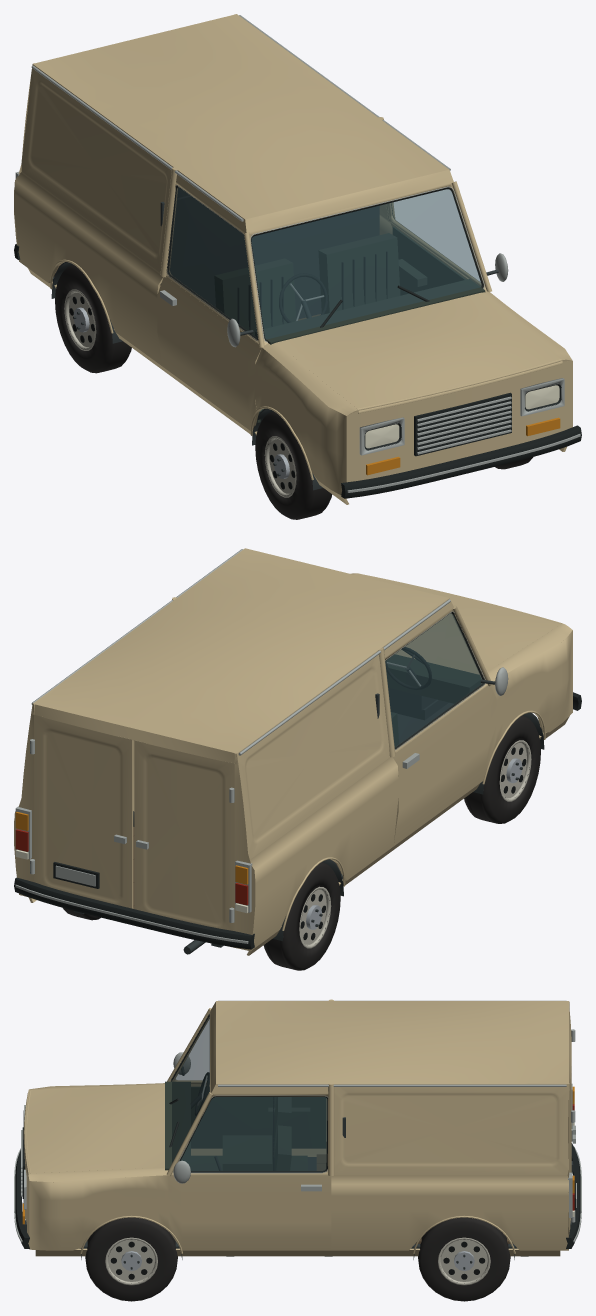
File: van-candidate.glb
The picture shows the model from 3 angles, top to bottom: view 1: azimuth 30°, elevation 25°; view 2: azimuth 150°, elevation 25°; view 3: azimuth 270°, elevation 25°; orthographic projection. The views are drawn at different scales.
Visible parts, largest first — view 1: panel_RoofVan, glass_FrontVan, panel_hoodVan, panel_CargoBlankVanL, panel_CargoSideVanL, Structure cab bulkhead Van, panel_FrontValanceVan, panel_BodyDoorLVanSkin, glass_BodyDoorLVan, panel_FrontWingVanL, Interior Carrier seat back 1, Interior Carrier seat back -1 (+22 smaller); view 2: panel_RoofVan, panel_CargoDoorVanLStamping, panel_CargoDoorVanRStamping, panel_CargoBlankVanL, panel_CargoSideVanL, panel_BodyDoorLVanSkin, glass_BodyDoorLVan, panel_hoodVan, panel_FrontWingVanL, panel_bumper_rearVan, Tire_Rook_RL, Tire_Rook_FL (+17 smaller); view 3: panel_RoofVan, panel_CargoBlankVanR, panel_CargoSideVanR, panel_BodyDoorRVanSkin, panel_hoodVan, glass_BodyDoorRVan, panel_FrontWingVanR, panel_BodyDoorLVanInnerCard, Tire_Rook_FR, Tire_Rook_RR, glass_FrontVan, panel_SillVanR (+22 smaller).
Boxes of the visible parts, left/top/right/bottom form: panel_RoofVan: left=33, top=14, right=448, bottom=219; glass_FrontVan: left=251, top=189, right=481, bottom=339; panel_hoodVan: left=276, top=293, right=562, bottom=410; panel_CargoBlankVanL: left=21, top=64, right=173, bottom=272; panel_CargoSideVanL: left=14, top=172, right=163, bottom=365; Structure cab bulkhead Van: left=160, top=195, right=379, bottom=318; panel_FrontValanceVan: left=346, top=361, right=572, bottom=482; panel_BodyDoorLVanSkin: left=157, top=277, right=261, bottom=430; glass_BodyDoorLVan: left=169, top=187, right=257, bottom=337; panel_FrontWingVanL: left=255, top=348, right=347, bottom=498; Interior Carrier seat back 1: left=318, top=233, right=400, bottom=313; Interior Carrier seat back -1: left=214, top=258, right=296, bottom=335; panel_RoofVan: left=36, top=548, right=446, bottom=753; panel_CargoDoorVanLStamping: left=134, top=740, right=234, bottom=930; panel_CargoDoorVanRStamping: left=34, top=714, right=133, bottom=908; panel_CargoBlankVanL: left=237, top=650, right=389, bottom=860; panel_CargoSideVanL: left=248, top=757, right=398, bottom=950; panel_BodyDoorLVanSkin: left=393, top=685, right=496, bottom=845; glass_BodyDoorLVan: left=385, top=613, right=481, bottom=746; panel_hoodVan: left=356, top=573, right=561, bottom=674; panel_FrontWingVanL: left=491, top=630, right=572, bottom=747; panel_bumper_rearVan: left=14, top=877, right=254, bottom=949; Tire_Rook_RL: left=263, top=862, right=340, bottom=970; Tire_Rook_FL: left=464, top=715, right=540, bottom=823; panel_RoofVan: left=216, top=1001, right=568, bottom=1083; panel_CargoBlankVanR: left=334, top=1083, right=568, bottom=1175; panel_CargoSideVanR: left=331, top=1175, right=568, bottom=1250; panel_BodyDoorRVanSkin: left=168, top=1175, right=331, bottom=1250; panel_hoodVan: left=24, top=1084, right=164, bottom=1175; glass_BodyDoorRVan: left=181, top=1097, right=327, bottom=1170; panel_FrontWingVanR: left=29, top=1175, right=168, bottom=1250; panel_BodyDoorLVanInnerCard: left=191, top=1086, right=326, bottom=1148; Tire_Rook_FR: left=85, top=1217, right=177, bottom=1301; Tire_Rook_RR: left=418, top=1217, right=510, bottom=1301; glass_FrontVan: left=172, top=1017, right=209, bottom=1162; panel_SillVanR: left=35, top=1248, right=560, bottom=1256.
Bounding box in the file's own units: 2.15 × 1.97 × 4.61.
